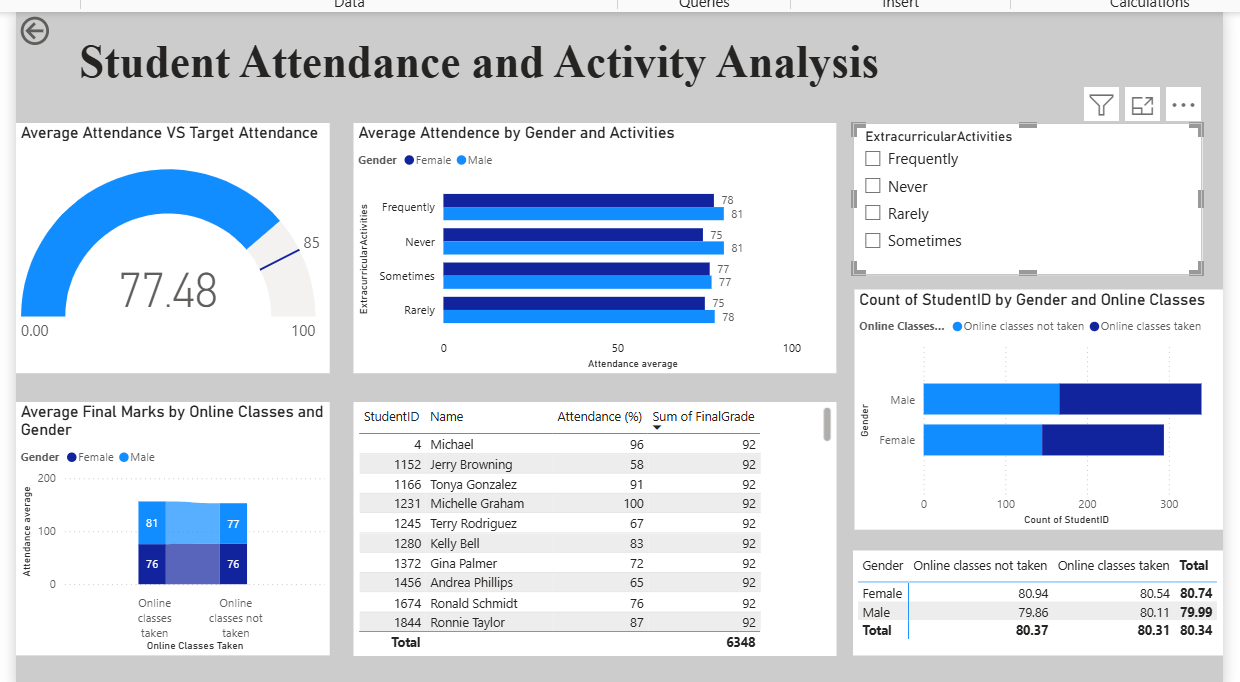

Layout of this report page (visuals, bound fields, positions):
{"tool":"powerbi","page":{"name":"Student attendence analysis","canvas":[1280,720],"ordinal":1},"visuals":[{"type":"gauge","title":"Average Attendance VS Target Attendance","fields":{"Y":["Avg(student_performance_updated_1000.Attendance (%))"],"TargetValue":["student_performance_updated_1000.Attendance target"],"MaxValue":["student_performance_updated_1000.Gauge max"]},"box":[0,117.7,332.4,265.6],"z":0},{"type":"ribbonChart","title":"Average Final Marks by Online Classes  and Gender","fields":{"Category":["student_performance_updated_1000.Online Classes Taken"],"Y":["student_performance_updated_1000.Attendance average"],"Series":["student_performance_updated_1000.Gender"]},"box":[0,414.3,332.6,268.9],"z":1000},{"type":"clusteredBarChart","title":"Average Attendence by Gender and Activities","fields":{"Category":["student_performance_updated_1000.ExtracurricularActivities"],"Y":["student_performance_updated_1000.Attendance average"],"Series":["student_performance_updated_1000.Gender"]},"box":[357.9,117.7,512.2,265.6],"z":2000},{"type":"barChart","title":"Count of StudentID by Gender and Online Classes ","fields":{"Category":["student_performance_updated_1000.Gender"],"Y":["CountNonNull(student_performance_updated_1000.StudentID)"],"Series":["student_performance_updated_1000.Online Classes Taken"]},"box":[889.2,283.1,391.3,265.6],"z":3000},{"type":"actionButton","box":[0,0,100,40],"z":4000},{"type":"pivotTable","fields":{"Rows":["student_performance_updated_1000.Gender"],"Columns":["student_performance_updated_1000.Online Classes Taken"],"Values":["student_performance_updated_1000.Average Final Marks"]},"box":[888.3,571.6,392.4,111.5],"z":5000},{"type":"textbox","box":[62,20.7,879.6,84.3],"z":6000},{"type":"slicer","fields":{"Values":["student_performance_updated_1000.ExtracurricularActivities"]},"box":[888.3,117.5,370.5,161.3],"z":7000},{"type":"tableEx","fields":{"Values":["student_performance_updated_1000.StudentID","student_performance_updated_1000.Name","student_performance_updated_1000.Attendance (%)","Sum(student_performance_updated_1000.FinalGrade)"]},"box":[358.5,414.3,511.9,268.9],"z":8000}]}

Visuals, with their boxes on the page's 1280x720 design canvas (x1, y1, x2, y2). These are canvas units, not pixel positions in the 1240x682 screenshot, which may show the page scaled, cropped or inside an application window:
"Average Attendance VS Target Attendance" gauge: (0, 118, 332, 383)
"Average Final Marks by Online Classes  and Gender" ribbonChart: (0, 414, 333, 683)
"Average Attendence by Gender and Activities" clusteredBarChart: (358, 118, 870, 383)
"Count of StudentID by Gender and Online Classes " barChart: (889, 283, 1280, 549)
actionButton: (0, 0, 100, 40)
pivotTable - student_performance_updated_1000.Gender x student_performance_updated_1000.Online Classes Taken: (888, 572, 1281, 683)
textbox: (62, 21, 942, 105)
slicer - student_performance_updated_1000.ExtracurricularActivities: (888, 118, 1259, 279)
tableEx - student_performance_updated_1000.StudentID x student_performance_updated_1000.Name: (358, 414, 870, 683)
